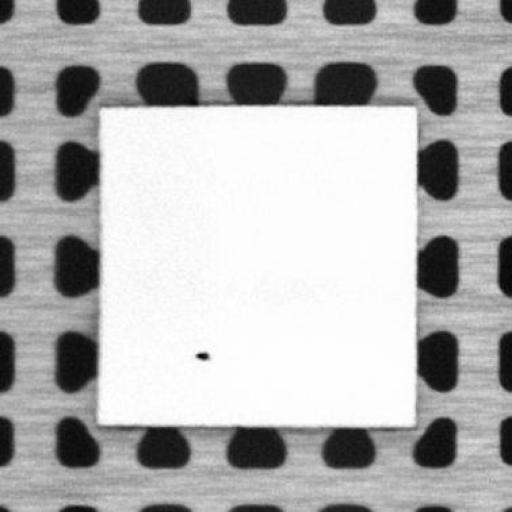DIE_INK: (192, 346, 209, 362)
